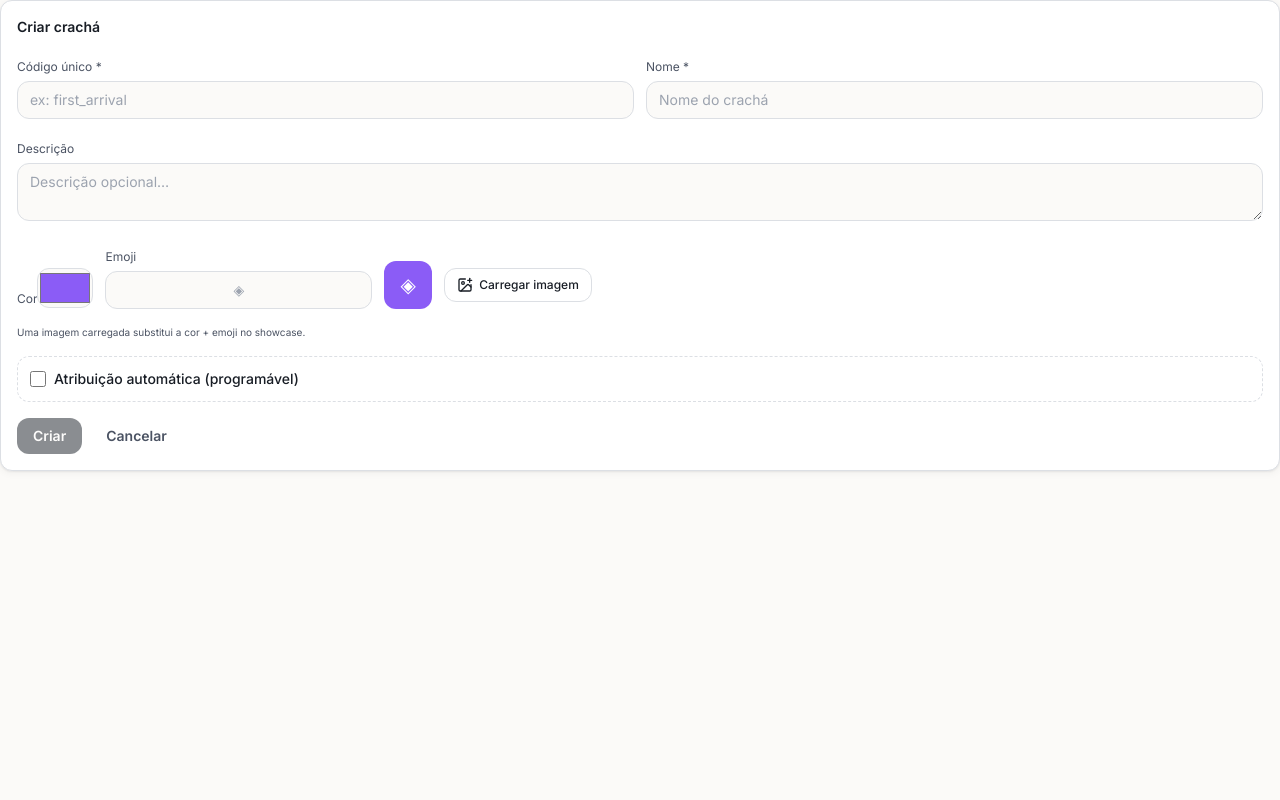
Test: BadgeForm › shows the auto-assignment fields when isAuto is checked
The width and height of the screenshot is (1280, 800).
Click the checkbox.
click(38, 379)  # box [30, 371, 46, 387]
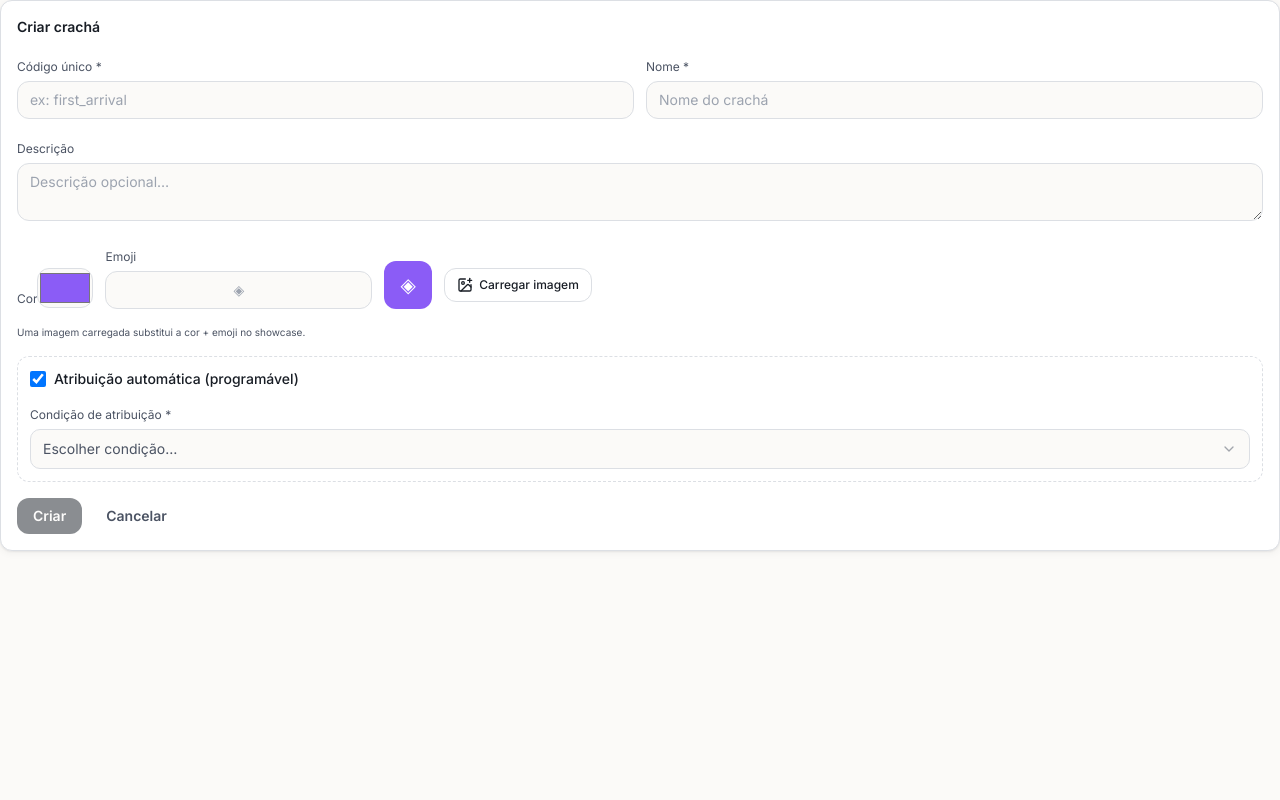
Now the text "Condição de atribuição *" is shown, box [30, 407, 171, 422]
